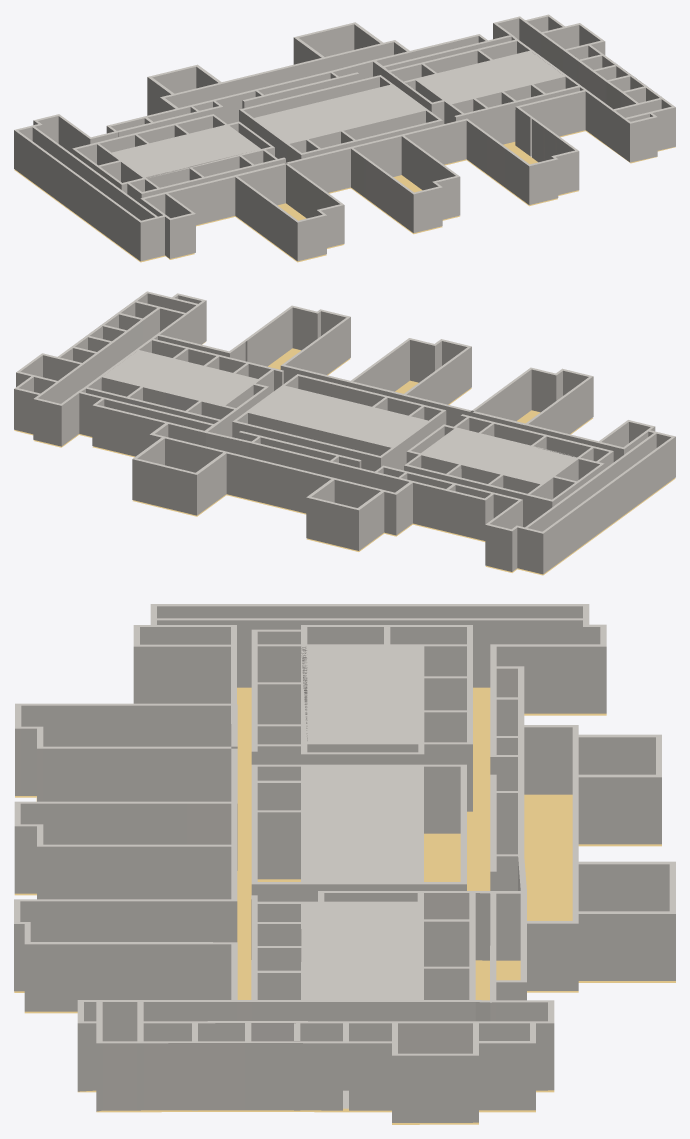
Rendered from Våning0.glb.
The picture shows the model from 3 angles, top to bottom: view 1: azimuth 30°, elevation 25°; view 2: azimuth 150°, elevation 25°; view 3: azimuth 270°, elevation 25°; orthographic projection. The views are drawn at different scales.
Parts seen in each view (by area): view 1: Plane, Plane.001; view 2: Plane, Plane.001; view 3: Plane, Plane.001.
Part boxes in pixels (x1,y1,x2,y2): Plane: (14,14,675,261); Plane.001: (14,130,675,262); Plane: (14,291,675,574); Plane.001: (14,342,675,575); Plane: (14,604,675,1122); Plane.001: (14,687,675,1124).
Size of the model in its own units: 346 by 24.75 by 214.
